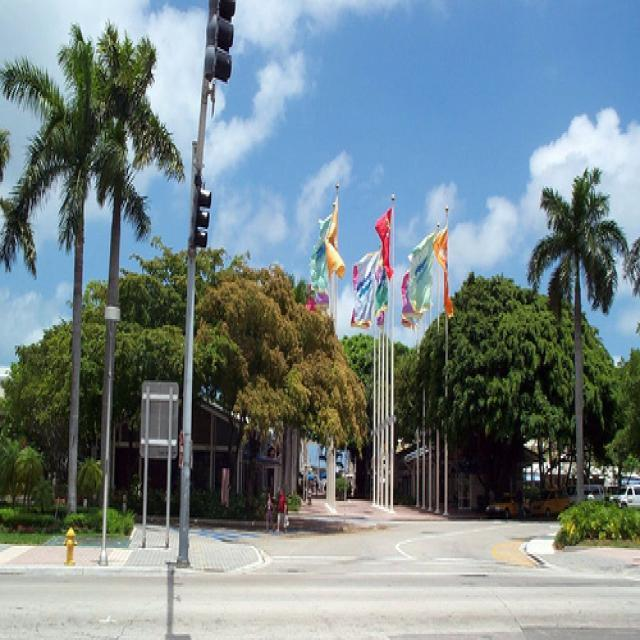fire_hydrant: (66, 524, 76, 568)
